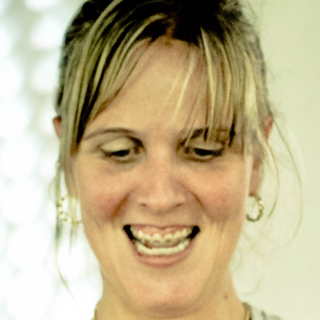eye: (179, 140, 224, 166), (99, 141, 144, 166)
